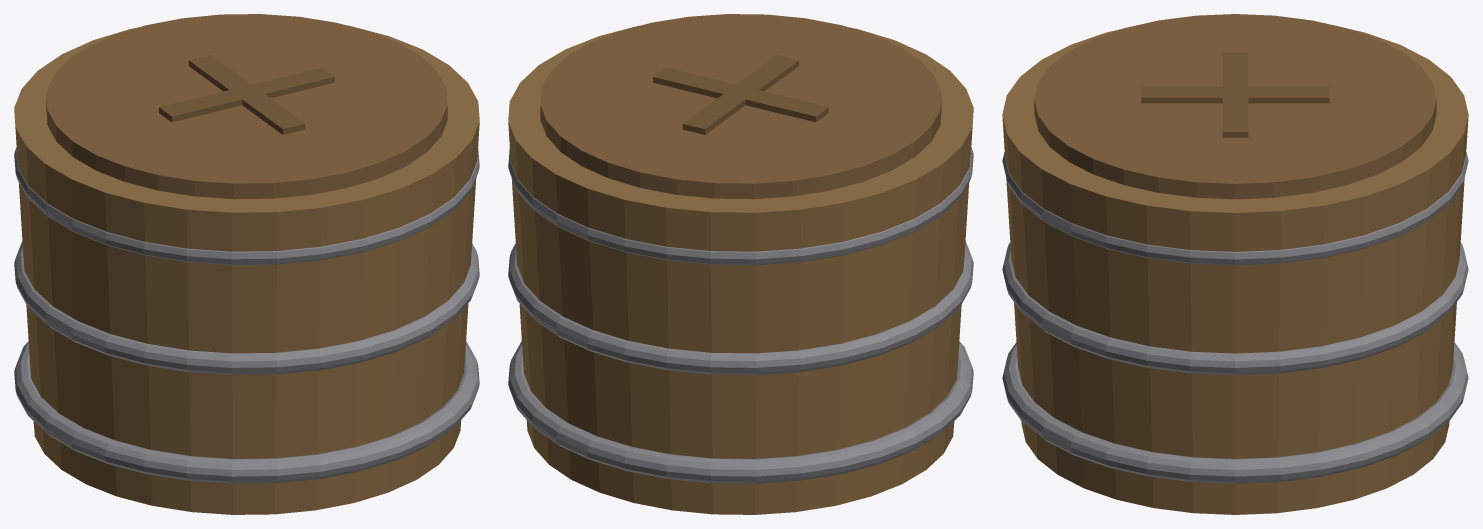
Rendered from barrel.fbx.
3 views of the same model, side by side, from view 1: azimuth 30°, elevation 25°; view 2: azimuth 150°, elevation 25°; view 3: azimuth 270°, elevation 25° (orthographic).
Visible parts, largest first — view 1: Barrel; view 2: Barrel; view 3: Barrel.
Part boxes in pixels (bbox=[...]): Barrel: bbox=[14, 14, 479, 514]; Barrel: bbox=[508, 14, 973, 514]; Barrel: bbox=[1002, 14, 1468, 514].
Bounding box in the file's own units: 1.09 × 0.8575 × 1.09.
